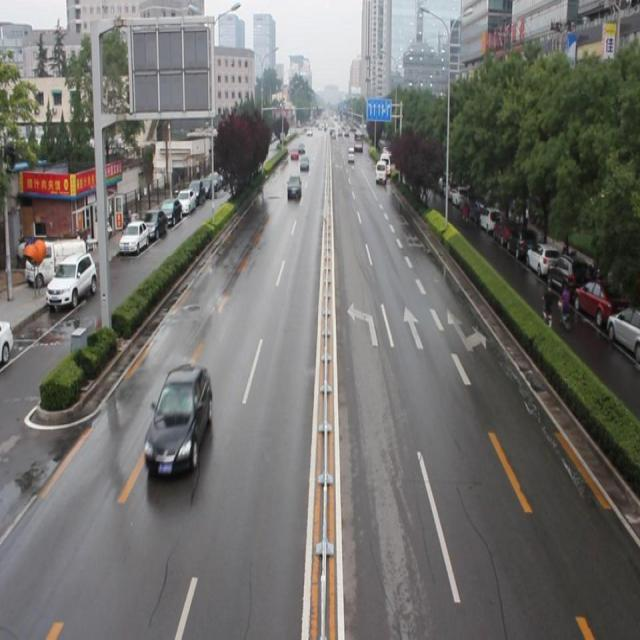car: (144, 360, 212, 479), (286, 173, 301, 200)
truck: (374, 158, 385, 184)
